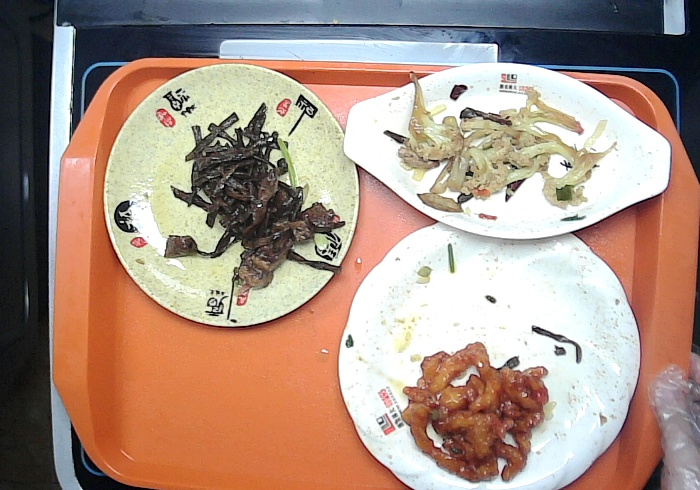NLDX-Bai_Zhe_Yuan_Pan: (334, 211, 641, 490)
NLDX-Fu_Zi_Yuan_Pan: (99, 57, 361, 330)
NLDX-Yu_Pan: (334, 60, 673, 248)
